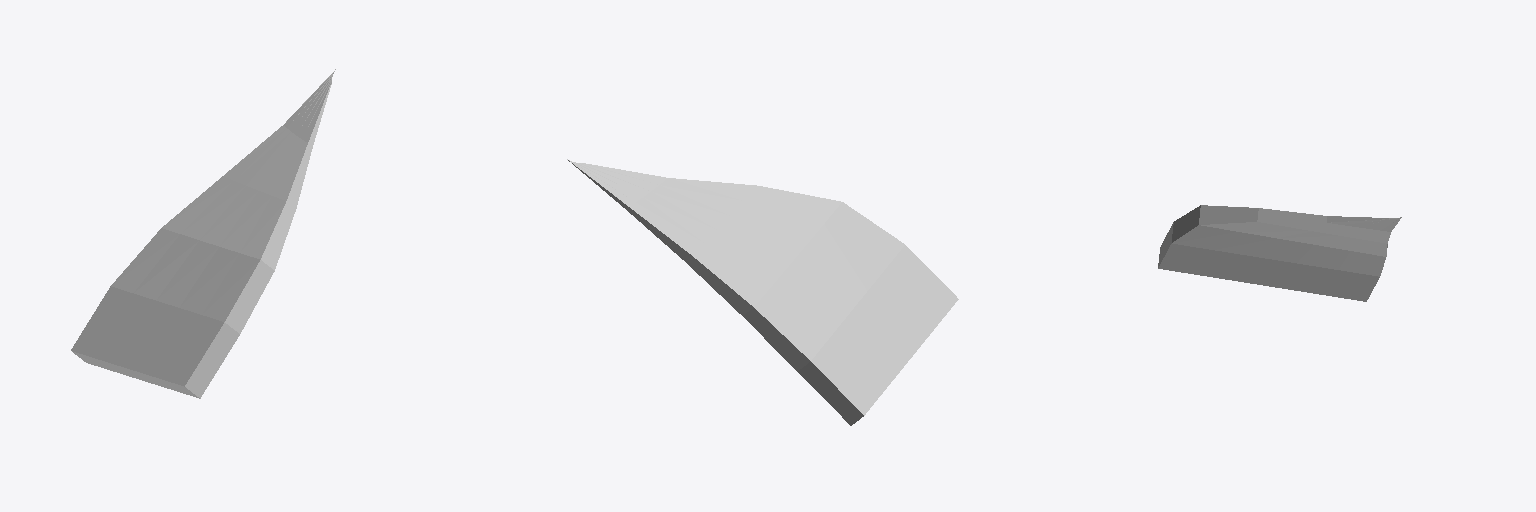
Rendered from leftwing.obj.
The picture shows the model from 3 angles: view 1: azimuth 30°, elevation 25°; view 2: azimuth 150°, elevation 25°; view 3: azimuth 270°, elevation 25°; orthographic projection.
Parts seen in each view (by area): view 1: bird.001; view 2: bird.001; view 3: bird.001.
Boxes of the visible parts, <box> form: bird.001: <box>71,69,335,398</box>; bird.001: <box>567,159,958,425</box>; bird.001: <box>1158,205,1401,301</box>.
Bounding box in the file's own units: 21.92 × 16.02 × 16.44.